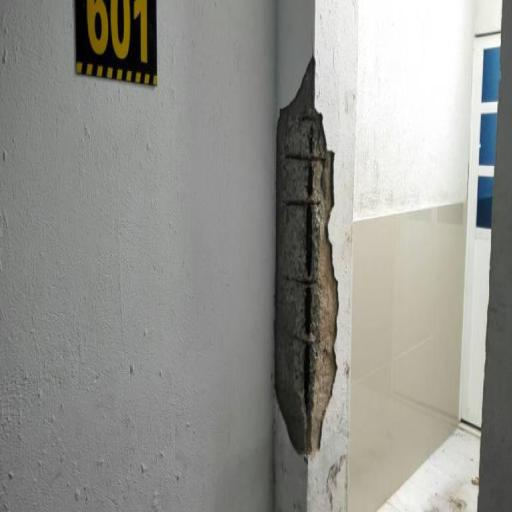spalling: (281, 72, 330, 446)
